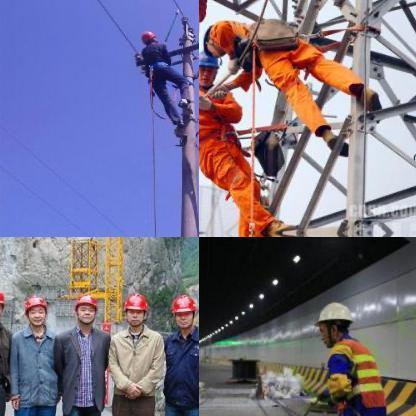Helmet: (311, 296, 355, 346), (170, 293, 198, 332), (204, 19, 236, 53), (22, 291, 50, 327), (122, 291, 150, 327), (70, 291, 100, 323), (199, 42, 219, 88), (138, 26, 156, 48), (0, 283, 8, 326)
